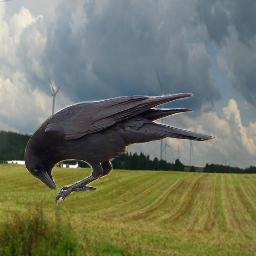Crow: (24, 93, 216, 205)
